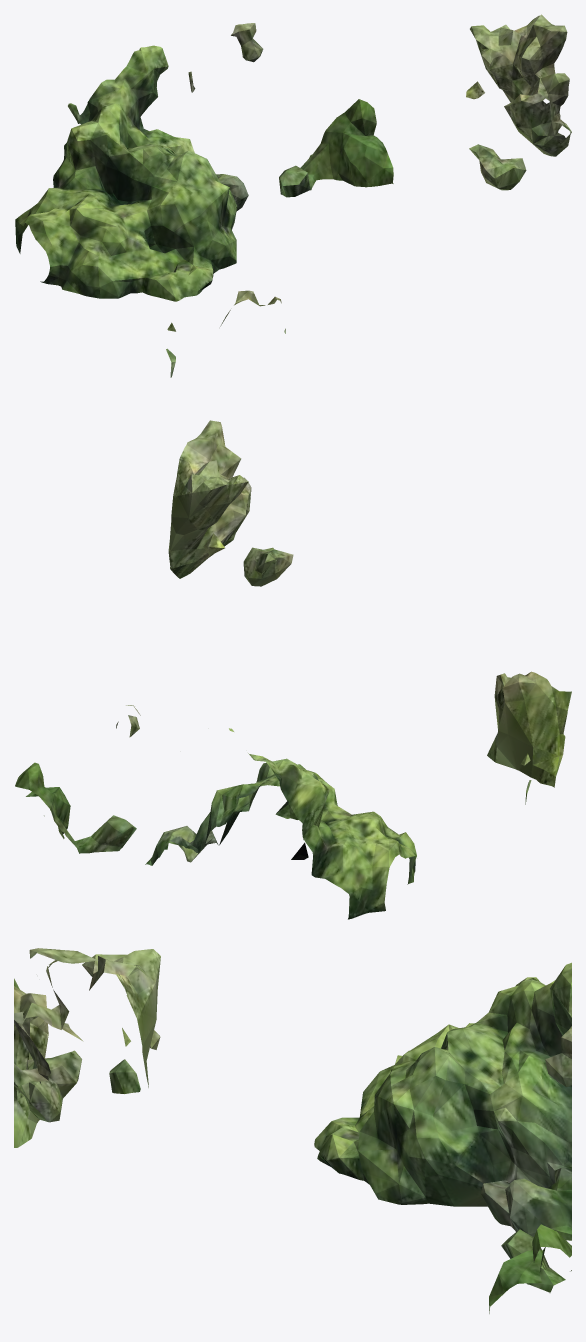
3 views of the same model, one above another, from view 1: azimuth 30°, elevation 25°; view 2: azimuth 150°, elevation 25°; view 3: azimuth 270°, elevation 25° (orthographic). The views are drawn at different scales.
Size of the model in its own units: 26.11 by 19.36 by 26.11.
2 materials, 2 textured.
